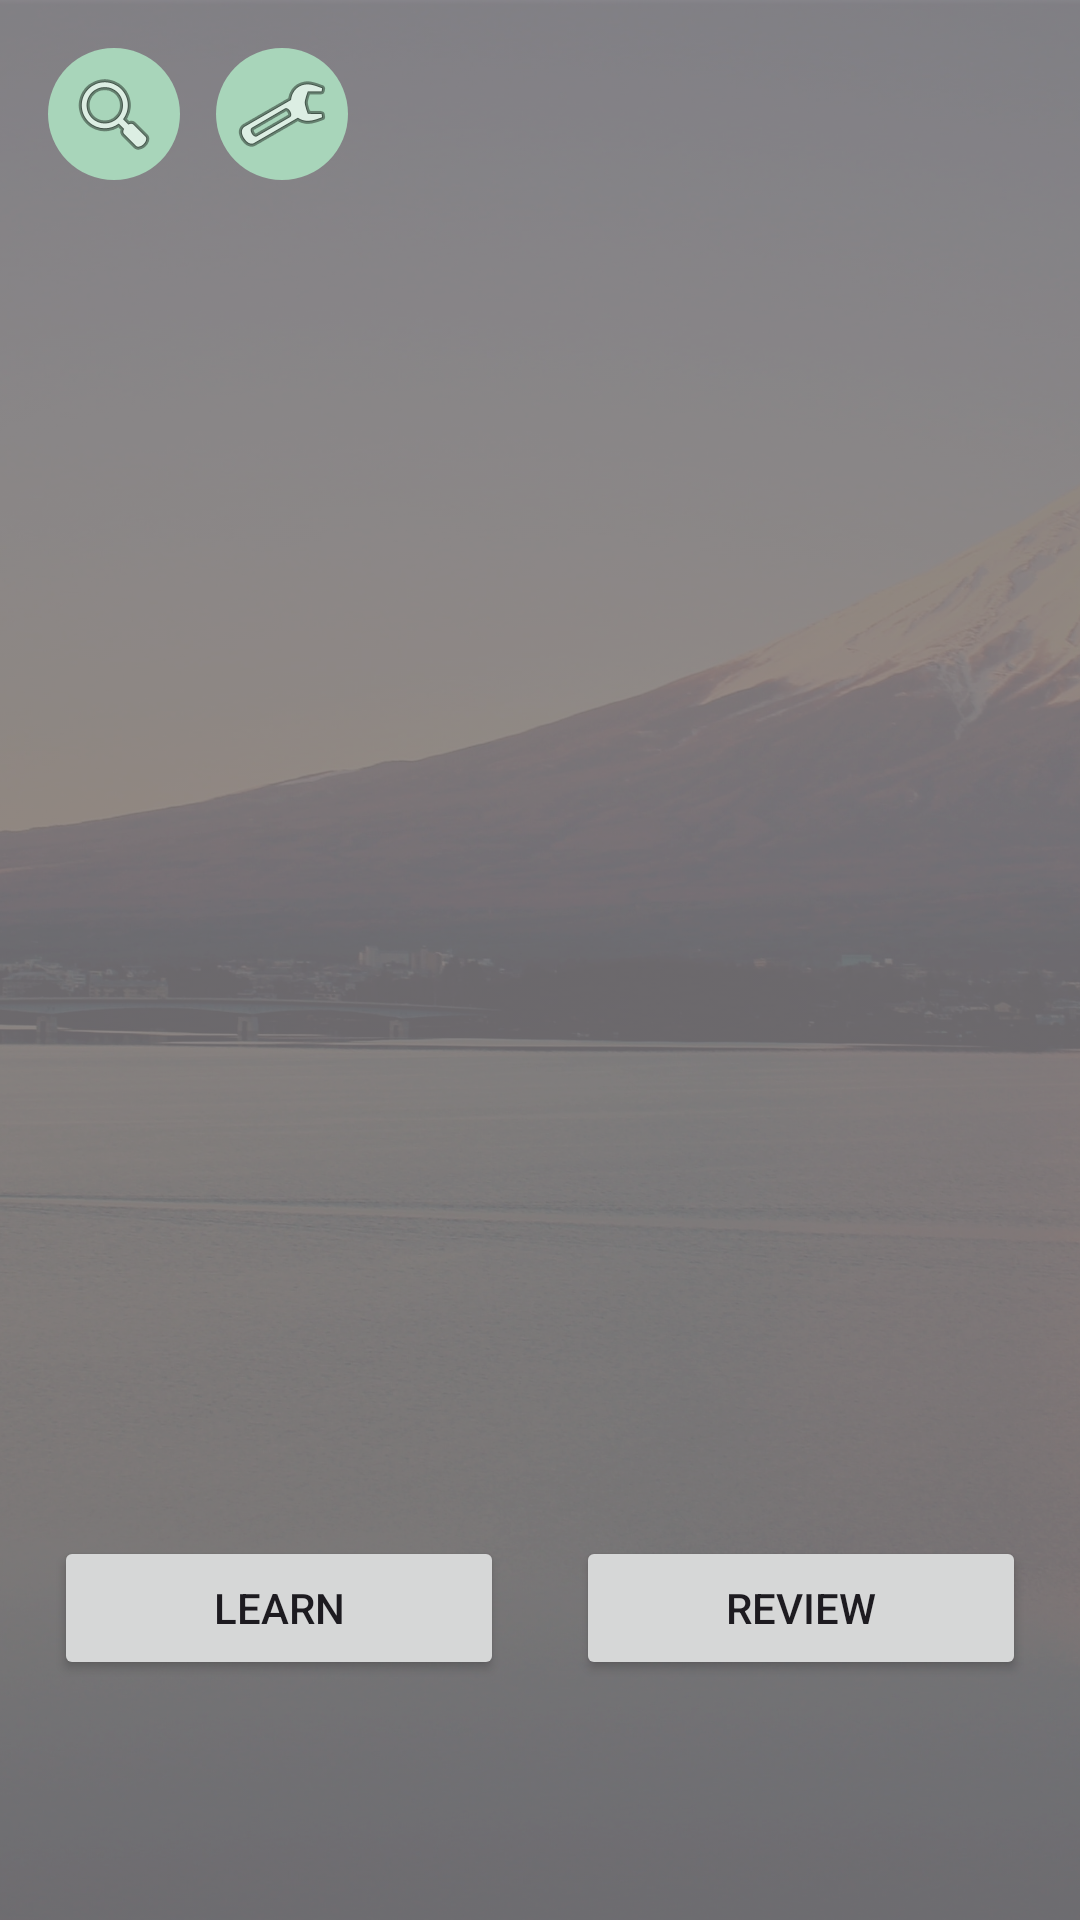

Point at icon controls on the screen. Image size 1080×1920, points as [x,y].
Search: [114,114]
Settings: [282,114]
